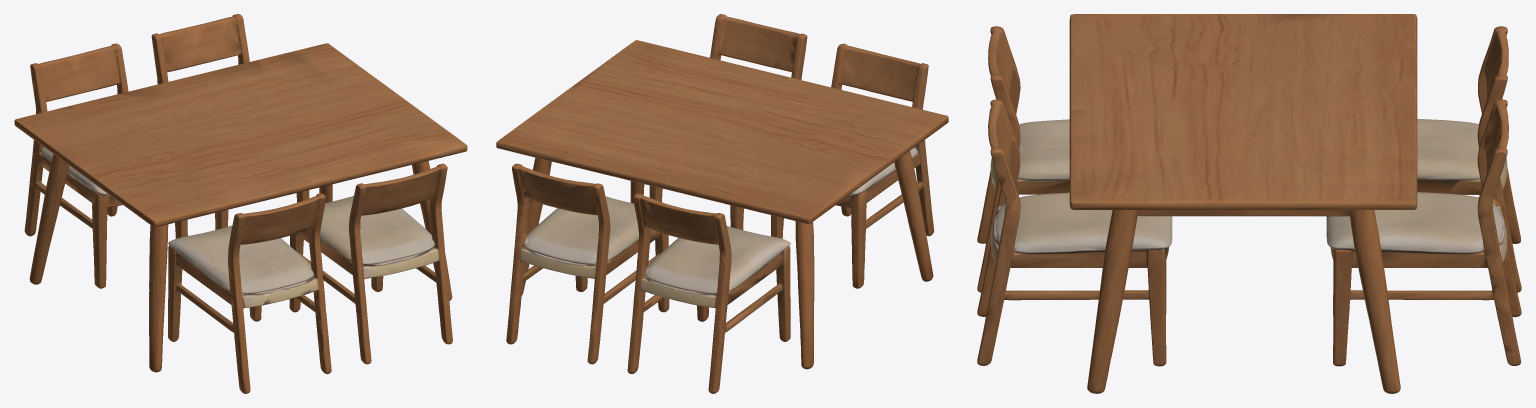
File: dining_set_4.9bb1ee97.glb
The picture shows the model from 3 angles, left to right: view 1: azimuth 30°, elevation 25°; view 2: azimuth 150°, elevation 25°; view 3: azimuth 270°, elevation 25°; orthographic projection. The views are drawn at different scales.
Parts seen in each view (by area): view 1: tripo_node_085bd4bb-1383-4493-809b-6a350f85fb93; view 2: tripo_node_085bd4bb-1383-4493-809b-6a350f85fb93; view 3: tripo_node_085bd4bb-1383-4493-809b-6a350f85fb93.
Boxes of the visible parts, x1,y1,x2,y2 form: tripo_node_085bd4bb-1383-4493-809b-6a350f85fb93: (14, 14, 467, 393); tripo_node_085bd4bb-1383-4493-809b-6a350f85fb93: (496, 14, 948, 393); tripo_node_085bd4bb-1383-4493-809b-6a350f85fb93: (977, 14, 1521, 393).
Bounding box in the file's own units: 1.4 × 0.7501 × 1.7.
1 material, 1 textured.
